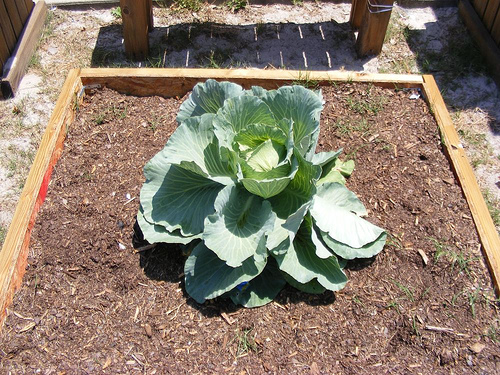cabbage: (134, 77, 390, 310)
